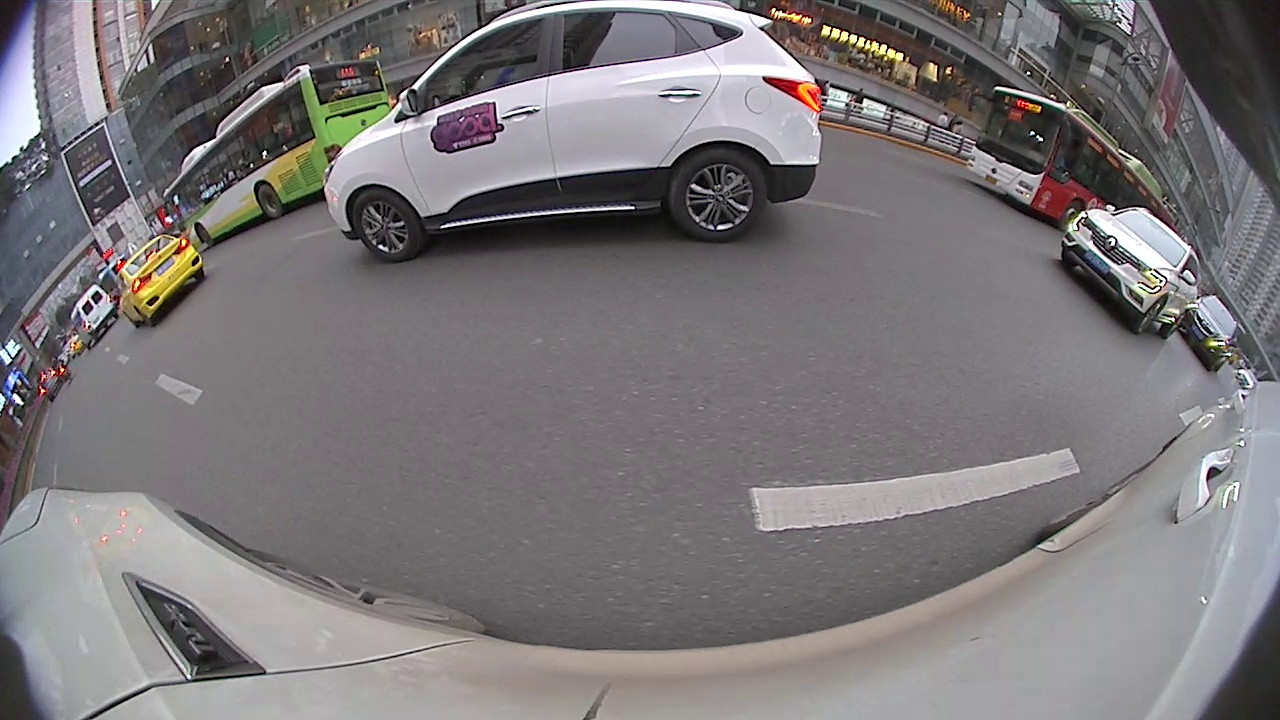bus: (164, 58, 388, 261), (962, 84, 1168, 238)
car: (321, 1, 821, 264), (1054, 206, 1203, 343), (114, 231, 210, 329), (1174, 299, 1246, 376), (67, 288, 119, 347)
front: (351, 192, 423, 261), (1130, 295, 1165, 336)
rear: (671, 147, 769, 243), (253, 182, 285, 220)
